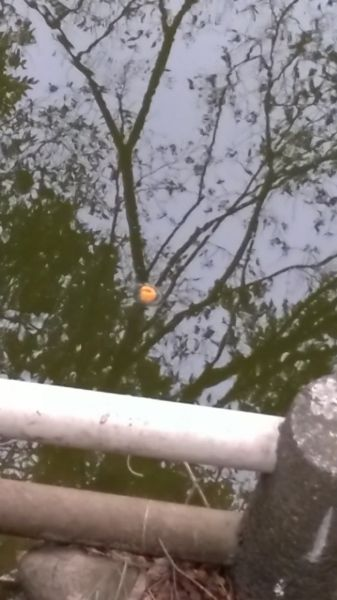eggs: (133, 281, 162, 307)
